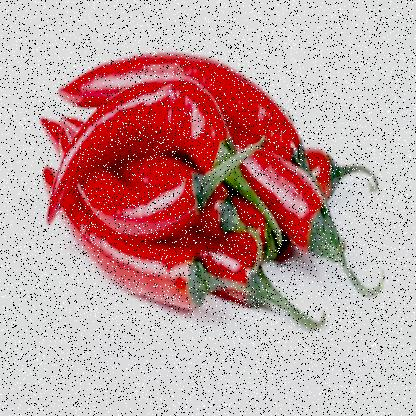chili: (38, 32, 393, 339)
